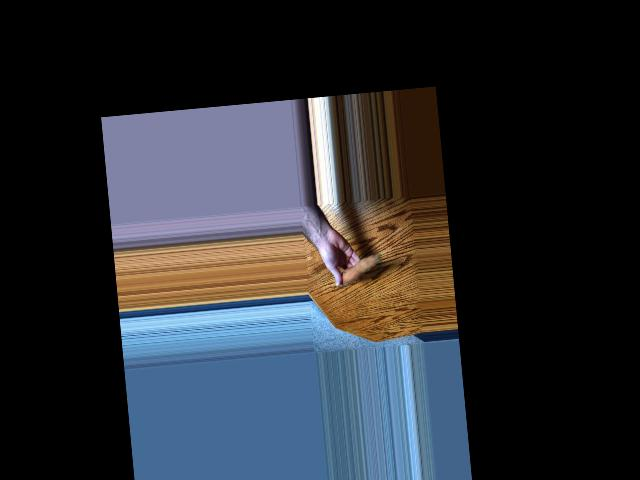sweet_potato: (330, 248, 385, 288)
